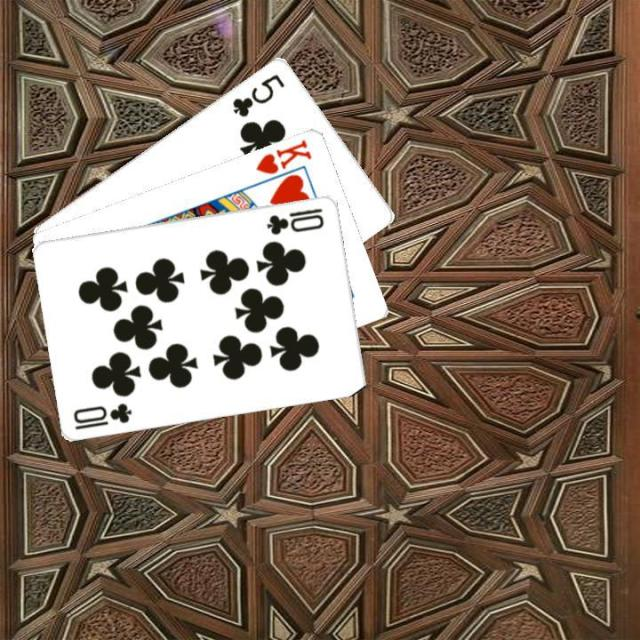10C: (70, 398, 134, 431), (263, 204, 326, 236)
5C: (229, 69, 287, 119)
KH: (252, 135, 314, 176)
